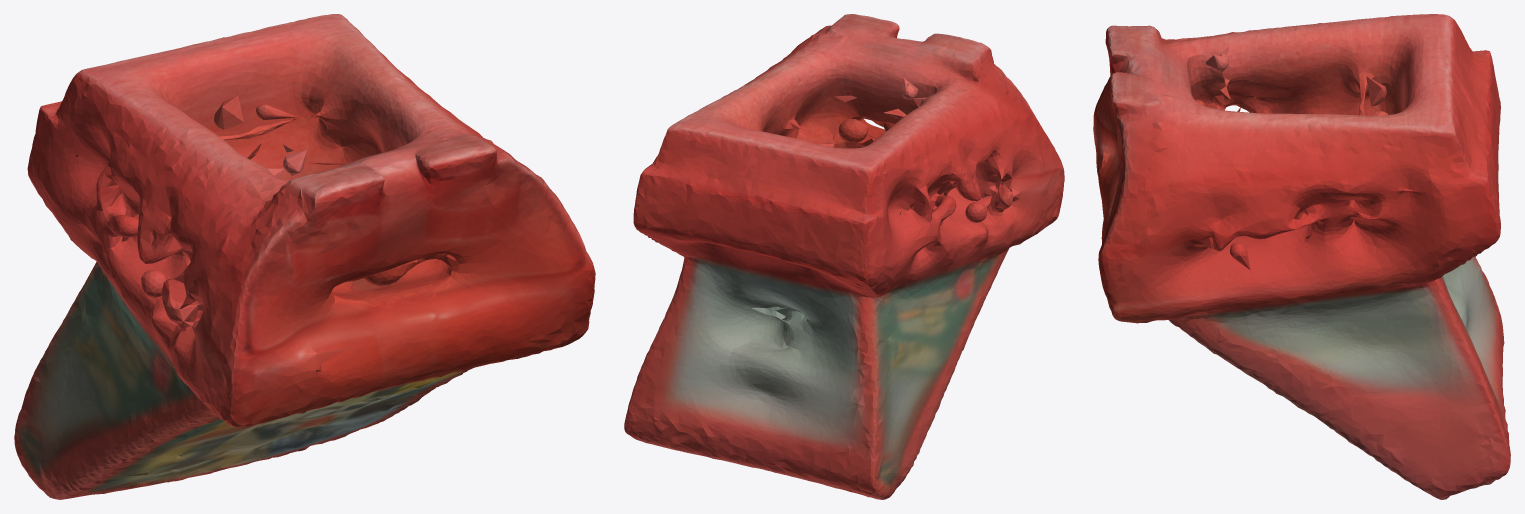
The model's file is IMG_SEG_27.glb.
3 views of the same model, side by side, from view 1: azimuth 30°, elevation 25°; view 2: azimuth 150°, elevation 25°; view 3: azimuth 270°, elevation 25° (orthographic). The views are drawn at different scales.
Size of the model in its own units: 0.8239 by 0.9333 by 0.9279.
Materials: 1 (1 with a texture image).
